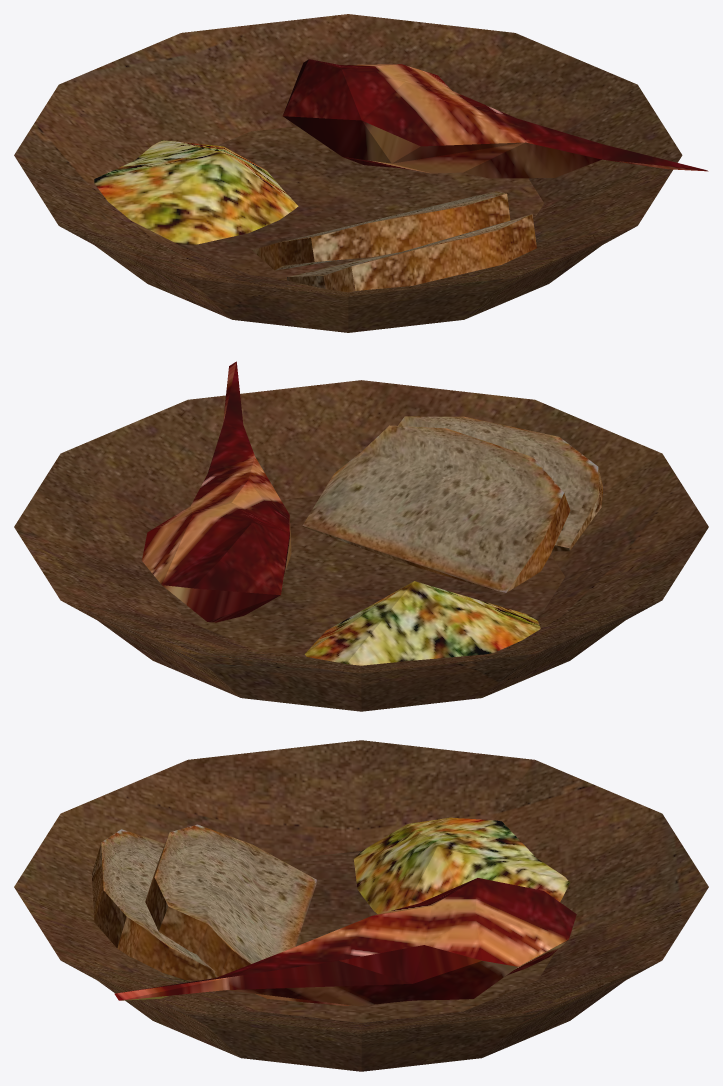
The model's file is KM_ITFO_BREADMEATVEGIES.glb.
3 views of the same model, one above another, from view 1: azimuth 30°, elevation 25°; view 2: azimuth 150°, elevation 25°; view 3: azimuth 270°, elevation 25° (orthographic). The views are drawn at different scales.
Visible parts, largest first — view 1: KM_ITFO_BREADMEATVEGIES; view 2: KM_ITFO_BREADMEATVEGIES; view 3: KM_ITFO_BREADMEATVEGIES.
Boxes of the visible parts, x1=… form: KM_ITFO_BREADMEATVEGIES: x1=14, y1=14, x2=708, y2=332; KM_ITFO_BREADMEATVEGIES: x1=14, y1=361, x2=708, y2=711; KM_ITFO_BREADMEATVEGIES: x1=14, y1=740, x2=708, y2=1071.
Bounding box in the file's own units: 0.3731 × 0.0732 × 0.3731.
3 materials, 3 textured.
